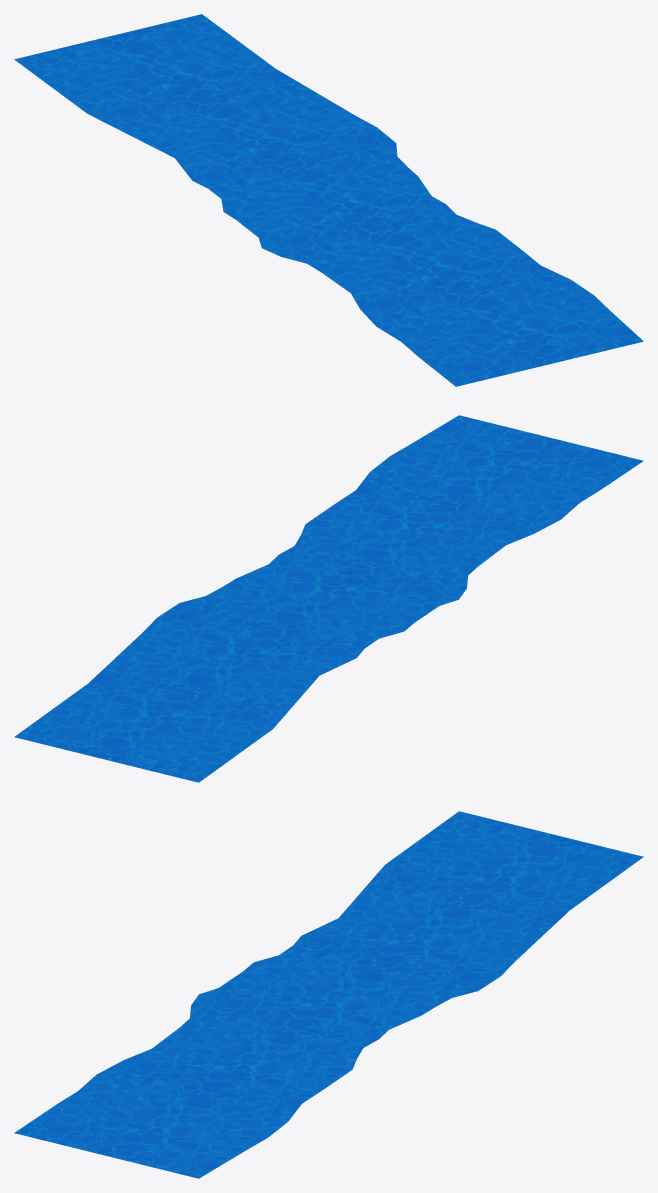
File: hook1.glb
3 views of the same model, one above another, from view 1: azimuth 30°, elevation 25°; view 2: azimuth 150°, elevation 25°; view 3: azimuth 330°, elevation 25° (orthographic).
Parts seen in each view (by area): view 1: hook1; view 2: hook1; view 3: hook1.
Part boxes in pixels (bbox=[...]): hook1: bbox=[14, 14, 643, 386]; hook1: bbox=[14, 415, 643, 782]; hook1: bbox=[14, 811, 643, 1178].
Bounding box in the file's own units: 1.37 × 0 × 5.04.
Materials: 1 (1 with a texture image).
